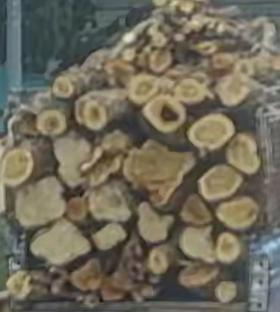large: (122, 140, 194, 206), (53, 130, 127, 189), (32, 219, 91, 266), (16, 177, 67, 227), (196, 164, 246, 202), (187, 115, 236, 151), (91, 182, 133, 222), (144, 94, 187, 132), (138, 202, 175, 244), (216, 198, 261, 230), (180, 226, 215, 264), (228, 134, 261, 173), (1, 149, 33, 188), (179, 195, 212, 228), (180, 263, 220, 290), (216, 75, 249, 106), (77, 95, 107, 129), (34, 108, 66, 139), (71, 260, 101, 293), (130, 75, 157, 104), (176, 78, 205, 104), (216, 233, 241, 262)
medium: (93, 223, 126, 252), (7, 269, 31, 300), (67, 195, 89, 221), (148, 247, 169, 274), (51, 77, 73, 99), (150, 50, 172, 72), (217, 282, 236, 302)
